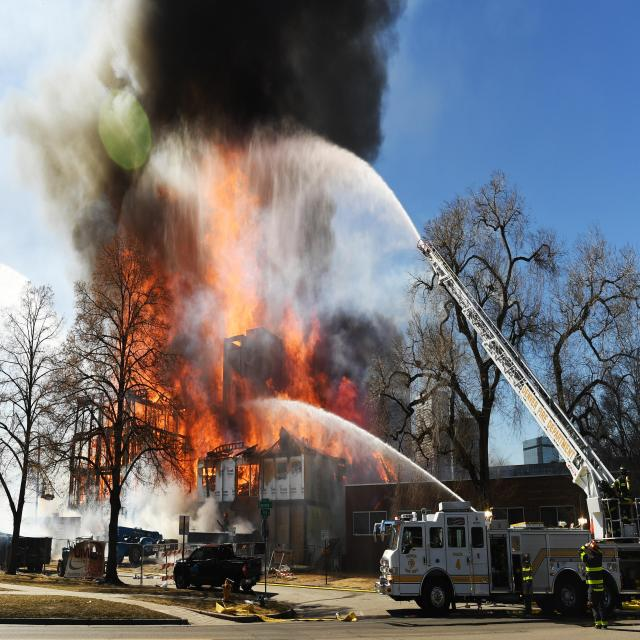Fire: (83, 207, 404, 487)
